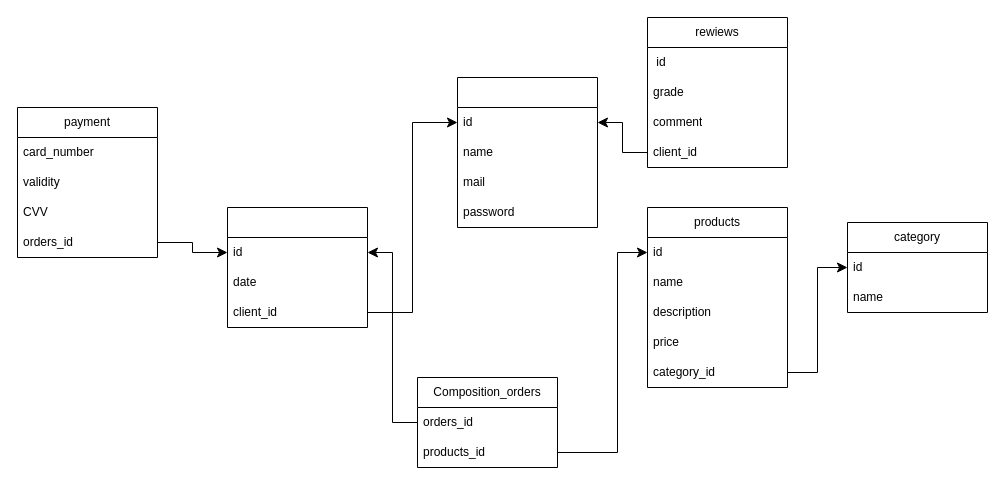
Some shapes in this 1005 by 485 pixel diagram are drawn without their labels. The box of each missing label's shape, as (x1, y1, x2, y2) in pixels:
clients: (456, 76, 598, 228)
orders: (226, 206, 368, 328)
